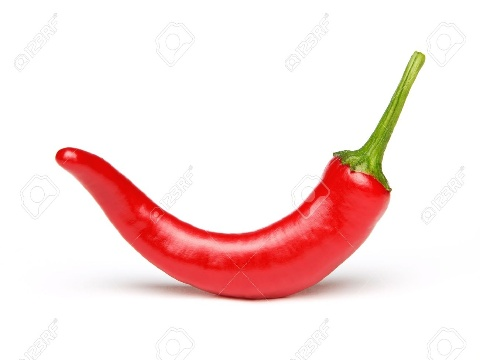Chilli: (26, 74, 443, 314)
